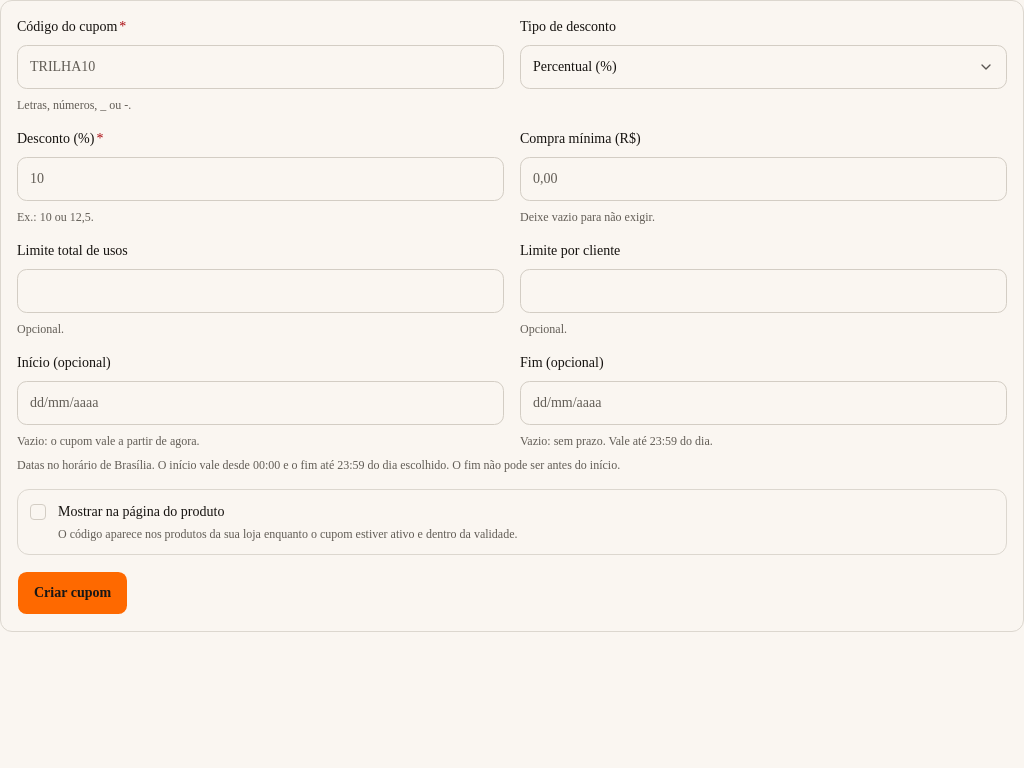
Test: flashes and focuses the empty code field when the coupon is sent blank
Click the button "Criar cupom" at (73, 593), box [17, 571, 128, 615]
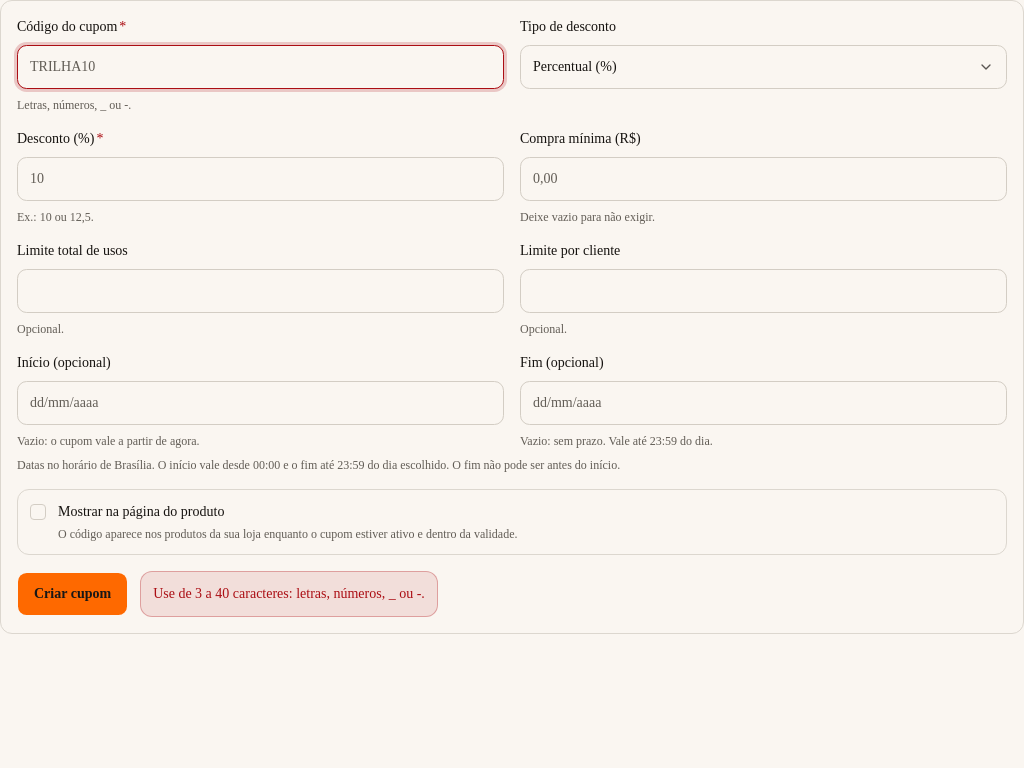
expect the message shows "Use de 3 a 40 caracteres": met, box [153, 586, 425, 601]
